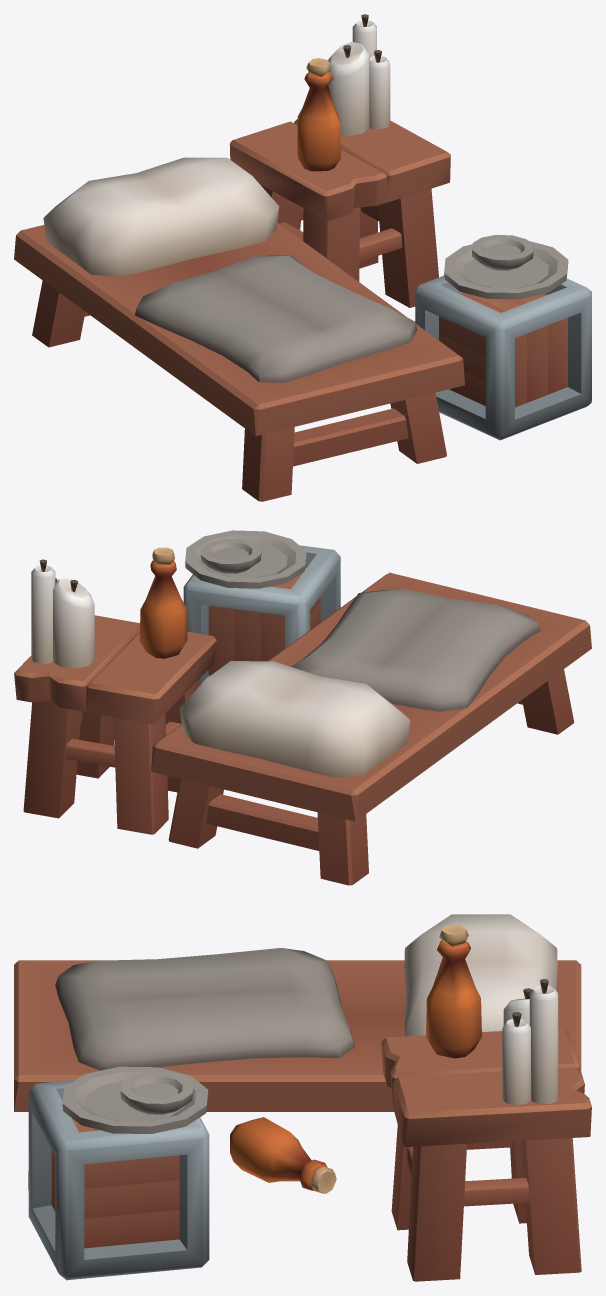
Rendered from bed_decorated.glb.
3 views of the same model, one above another, from view 1: azimuth 30°, elevation 25°; view 2: azimuth 150°, elevation 25°; view 3: azimuth 270°, elevation 25° (orthographic). The views are drawn at different scales.
Visible parts, largest first — view 1: bed_decorated; view 2: bed_decorated; view 3: bed_decorated.
Boxes of the visible parts, box(x1,y1,x2,y2) form: bed_decorated: box(14, 14, 591, 501); bed_decorated: box(14, 530, 591, 885); bed_decorated: box(14, 914, 591, 1281).
Size of the model in its own units: 2.61 by 1.7 by 3.06.
1 material, 1 textured.
